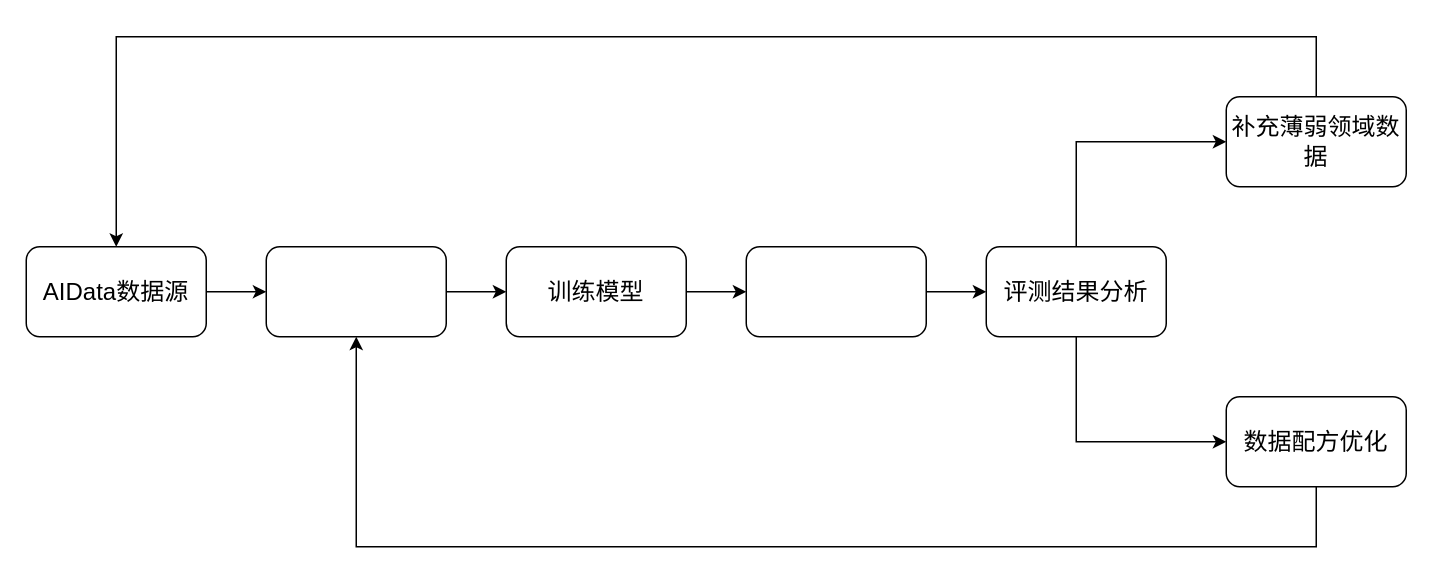
This 1433x585 diagram has some shape labels left out. Here are the shapes that lost their labels. From the top down, the centre of each, then its label:
At point 355,291: "设定数据比例".
At point 835,291: "自动化指标计算".
